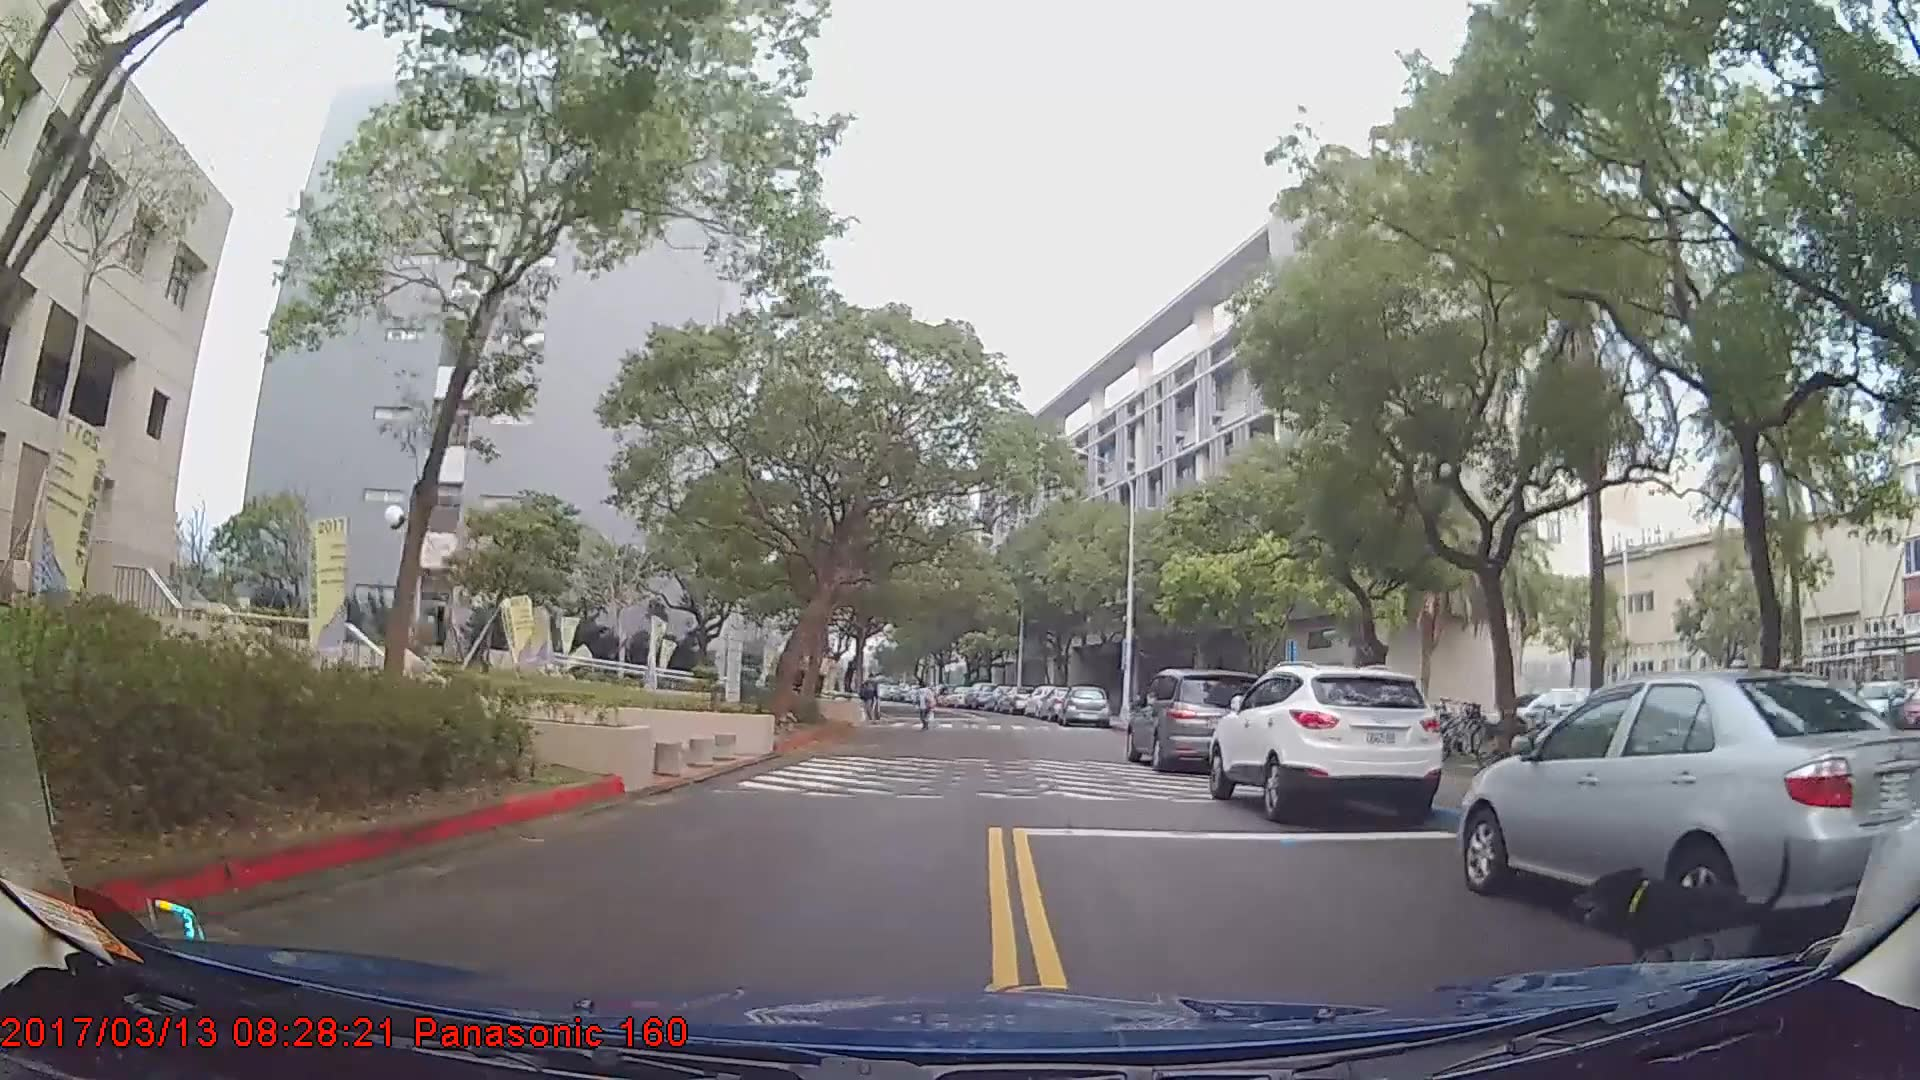pedestrian: (908, 679, 934, 732), (860, 674, 883, 723)
vehicle: (1458, 666, 1920, 937), (1207, 661, 1445, 827), (1124, 668, 1269, 769), (1060, 680, 1109, 727), (961, 680, 995, 710)
